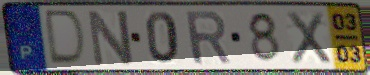0: (143, 10, 181, 66)
8: (246, 11, 283, 65)
D: (44, 8, 89, 68)
N: (85, 8, 136, 68)
R: (182, 8, 234, 67)
X: (284, 9, 334, 66)
